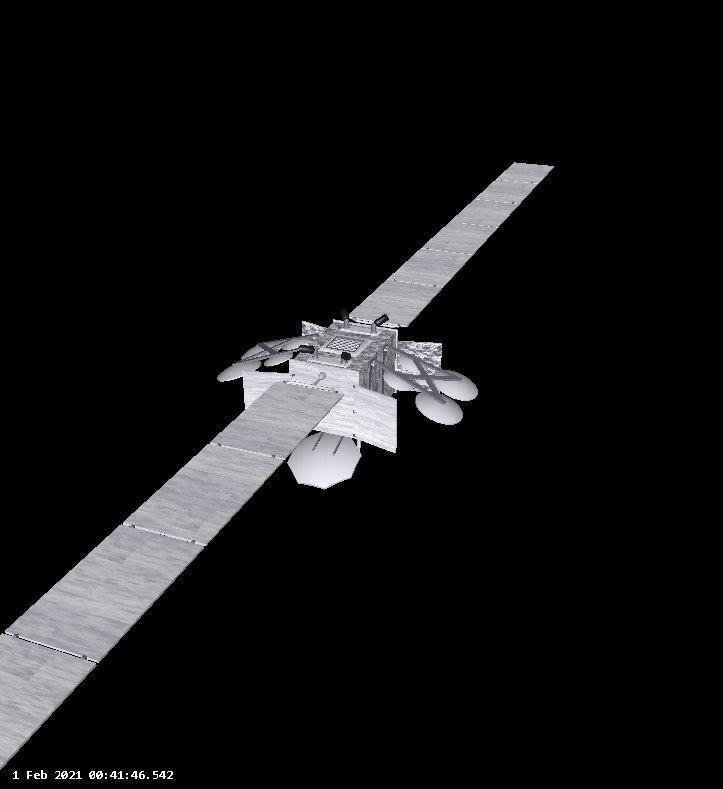antenna: (287, 430, 366, 492), (414, 388, 465, 427), (428, 368, 481, 403), (218, 354, 261, 382), (246, 335, 282, 359)
body: (224, 314, 427, 452)
solar: (0, 368, 346, 766), (348, 158, 557, 327)
thruster: (373, 313, 392, 327), (298, 343, 317, 355), (339, 351, 354, 362)
